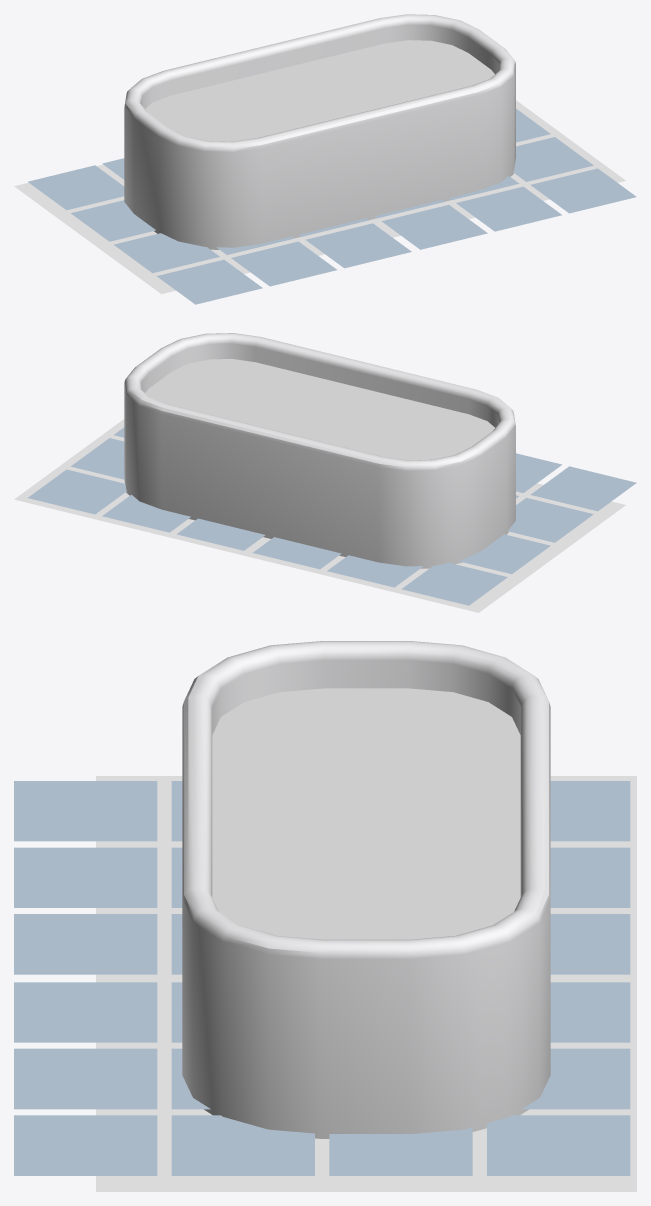
The model's file is banheiro.fbx.
3 views of the same model, one above another, from view 1: azimuth 30°, elevation 25°; view 2: azimuth 150°, elevation 25°; view 3: azimuth 270°, elevation 25° (orthographic). The views are drawn at different scales.
Parts seen in each view (by area): view 1: banheira, piso2, agua, piso; view 2: banheira, piso2, agua, piso; view 3: piso2, banheira, agua, piso.
Boxes of the visible parts, x1=… form: banheira: x1=124, y1=14, x2=515, y2=249; piso2: x1=28, y1=108, x2=636, y2=304; agua: x1=145, y1=40, x2=494, y2=141; piso: x1=14, y1=100, x2=625, y2=293; banheira: x1=124, y1=333, x2=515, y2=568; piso2: x1=28, y1=427, x2=636, y2=605; agua: x1=145, y1=359, x2=494, y2=460; piso: x1=14, y1=419, x2=625, y2=612; piso2: x1=14, y1=781, x2=630, y2=1175; banheira: x1=182, y1=641, x2=550, y2=1138; agua: x1=212, y1=688, x2=520, y2=939; piso: x1=96, y1=776, x2=636, y2=1191.
Bounding box in the file's own units: 1056 × 226 × 668.
2 materials, 1 textured.
